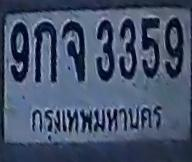3: (96, 19, 114, 81), (119, 18, 137, 80)
5: (142, 17, 160, 78)
9: (164, 17, 184, 78), (10, 22, 28, 82)
A01: (34, 21, 57, 82)
A08: (62, 21, 85, 82)
BKK: (26, 101, 166, 141)
